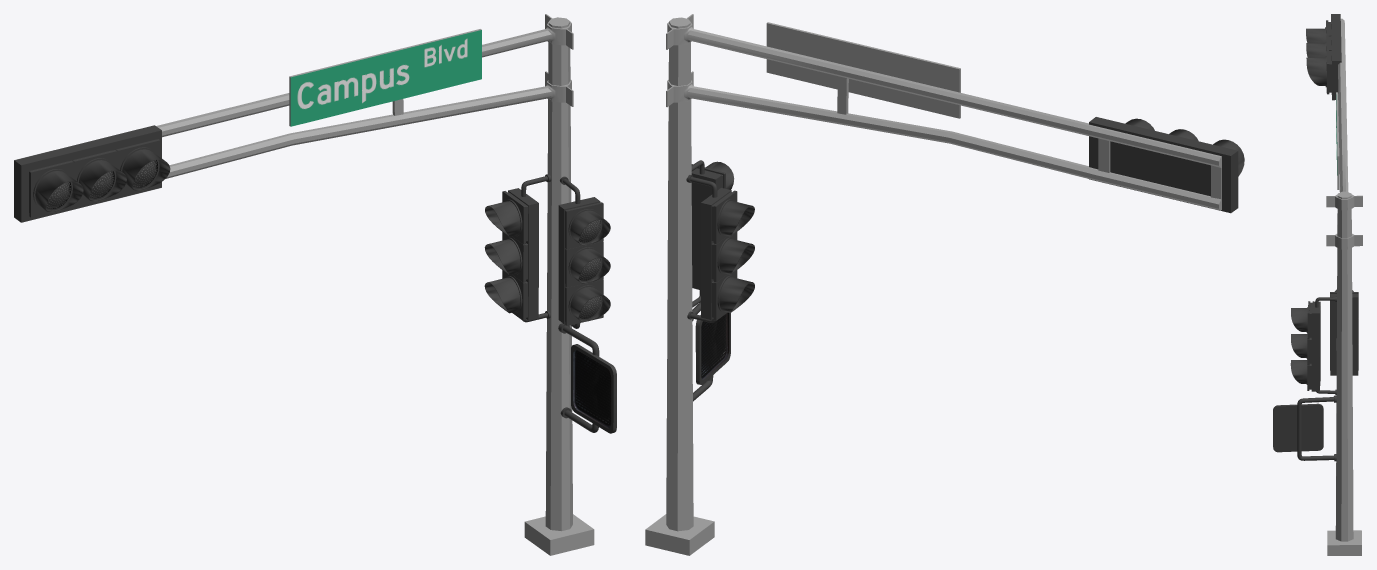
Rendered from Light10.fbx.
3 views of the same model, side by side, from view 1: azimuth 30°, elevation 25°; view 2: azimuth 150°, elevation 25°; view 3: azimuth 270°, elevation 25° (orthographic). The views are drawn at different scales.
Parts seen in each view (by area): view 1: Traffic Lights.023; view 2: Traffic Lights.023; view 3: Traffic Lights.023.
Boxes of the visible parts, x1=… form: Traffic Lights.023: x1=14, y1=14, x2=616, y2=555; Traffic Lights.023: x1=645, y1=14, x2=1244, y2=555; Traffic Lights.023: x1=1273, y1=14, x2=1362, y2=555.
Bounding box in the file's own units: 994 × 892 × 199.
